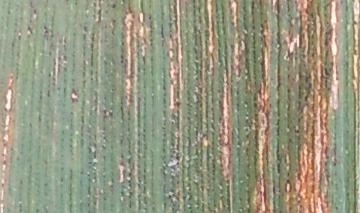tarspot: (69, 86, 81, 105), (101, 107, 114, 121), (173, 151, 182, 167), (173, 97, 183, 109), (26, 25, 35, 38), (42, 24, 50, 38), (293, 126, 301, 137), (32, 5, 38, 19), (110, 2, 118, 10)
